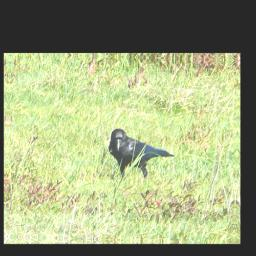Crow: (107, 128, 178, 183)
